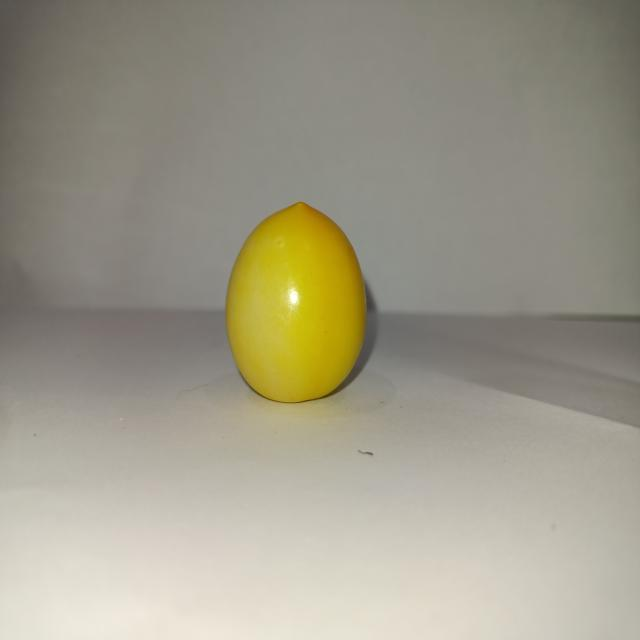Red: (224, 199, 367, 403)
